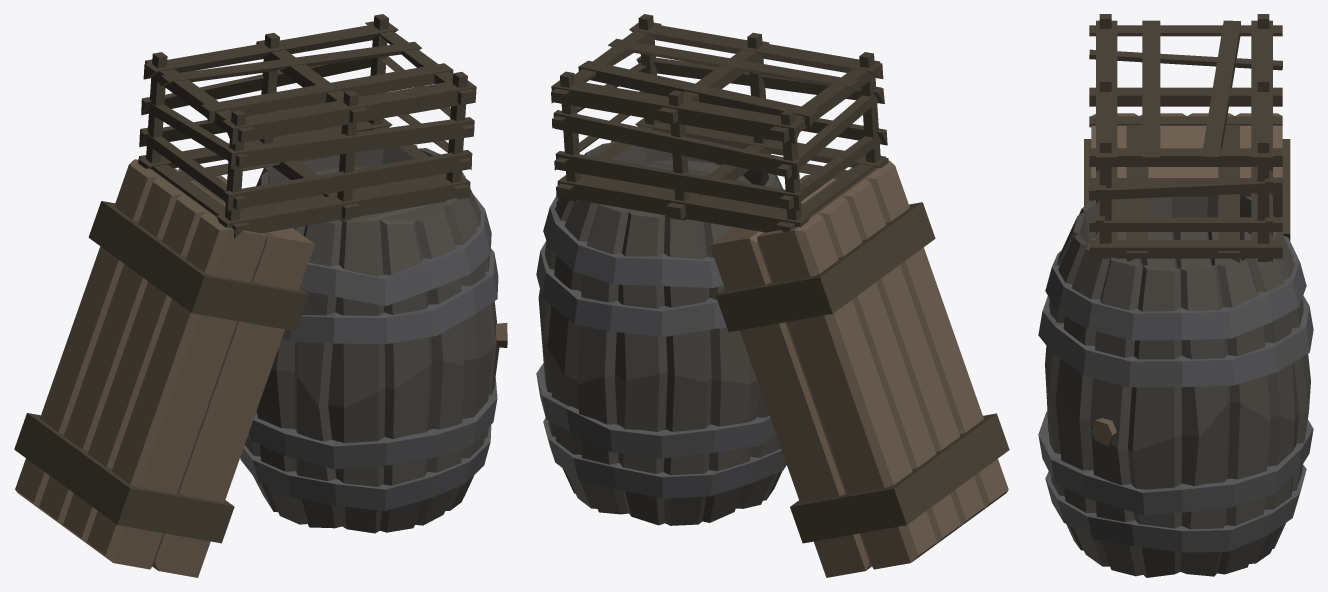
The model's file is SM_Prop_Stack_03.glb.
The picture shows the model from 3 angles, left to right: view 1: azimuth 30°, elevation 25°; view 2: azimuth 150°, elevation 25°; view 3: azimuth 270°, elevation 25°; orthographic projection.
Visible parts, largest first — view 1: SM_Prop_Stack_03; view 2: SM_Prop_Stack_03; view 3: SM_Prop_Stack_03.
Boxes of the visible parts, x1,y1,x2,y2 form: SM_Prop_Stack_03: (14,14,507,577); SM_Prop_Stack_03: (536,14,1009,577); SM_Prop_Stack_03: (1038,14,1313,577).
Bounding box in the file's own units: 0.0134 × 0.0138 × 0.00769.
